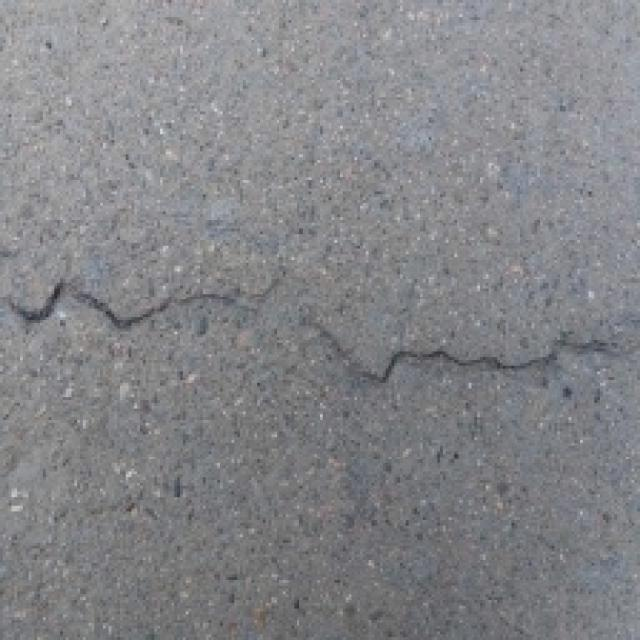SurfaceCrack: (0, 232, 636, 410)
